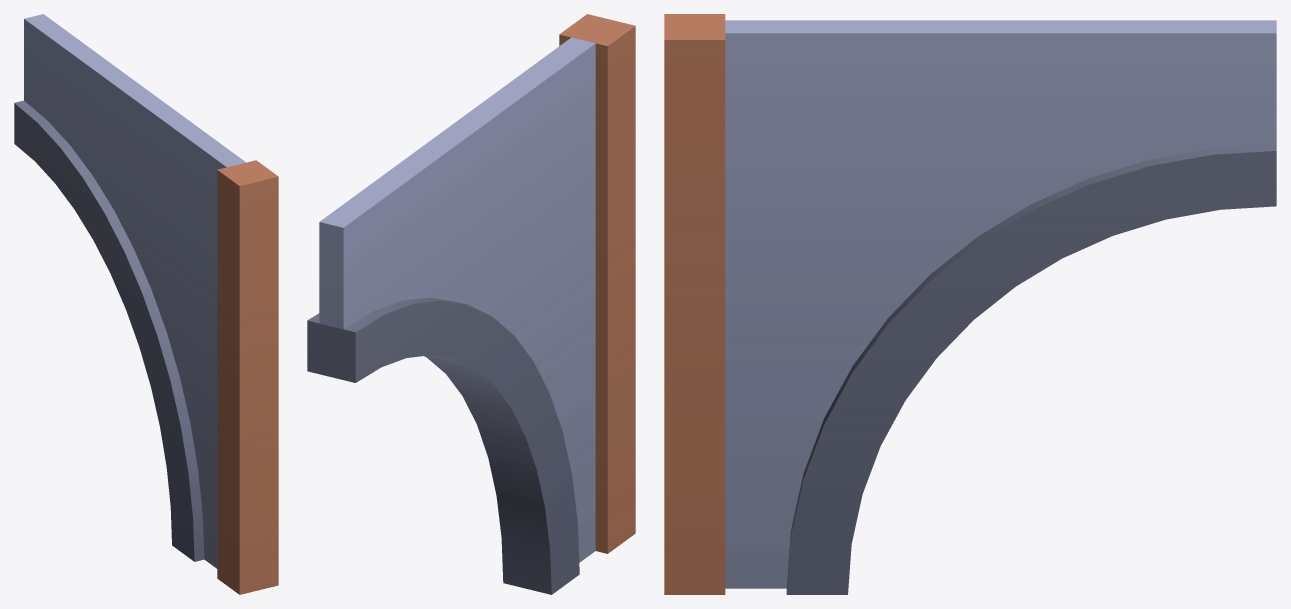
Rendered from wall-arch-top.fbx.
3 renders of one model, left to right at view 1: azimuth 30°, elevation 25°; view 2: azimuth 150°, elevation 25°; view 3: azimuth 270°, elevation 25°, orthographic. The views are drawn at different scales.
Parts seen in each view (by area): view 1: wall-arch-top; view 2: wall-arch-top; view 3: wall-arch-top.
Part boxes in pixels (left/top/right/bottom): wall-arch-top: left=14, top=14, right=278, bottom=594; wall-arch-top: left=307, top=14, right=635, bottom=594; wall-arch-top: left=664, top=14, right=1276, bottom=594.
Bounding box in the file's own units: 10 × 100 × 100.
Materials: 1 (1 with a texture image).
